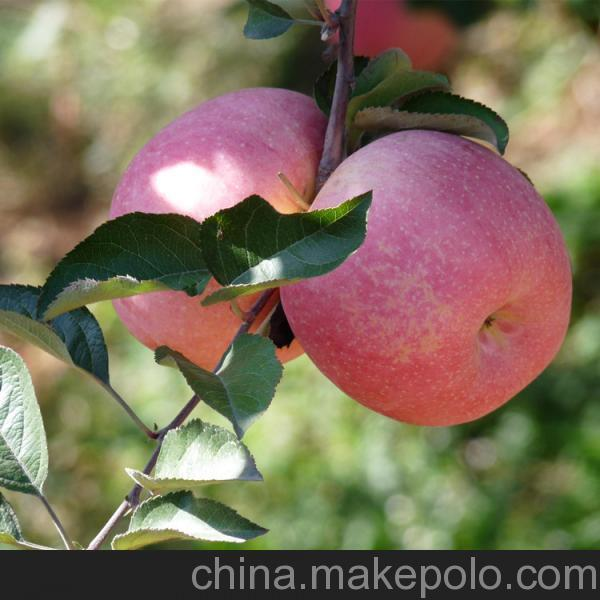apple: (280, 132, 571, 435), (110, 85, 325, 367)
